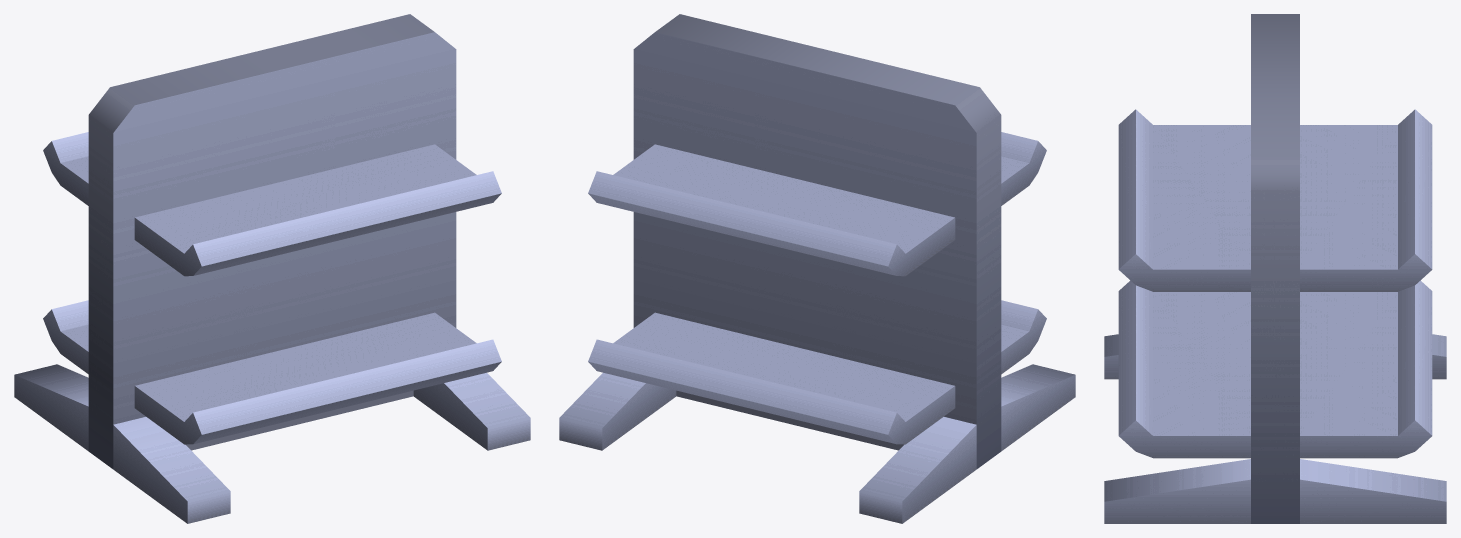
File: shelf-boxes_lev2.glb
3 views of the same model, side by side, from view 1: azimuth 30°, elevation 25°; view 2: azimuth 150°, elevation 25°; view 3: azimuth 270°, elevation 25° (orthographic).
Parts seen in each view (by area): view 1: shelf-boxes_lev2; view 2: shelf-boxes_lev2; view 3: shelf-boxes_lev2.
Part boxes in pixels (box(x1,y1,x2,y2)): shelf-boxes_lev2: box(14, 14, 530, 523); shelf-boxes_lev2: box(559, 14, 1075, 523); shelf-boxes_lev2: box(1104, 14, 1446, 523).
Size of the model in its own units: 4 by 4 by 3.5.
Materials: 1 (1 with a texture image).
